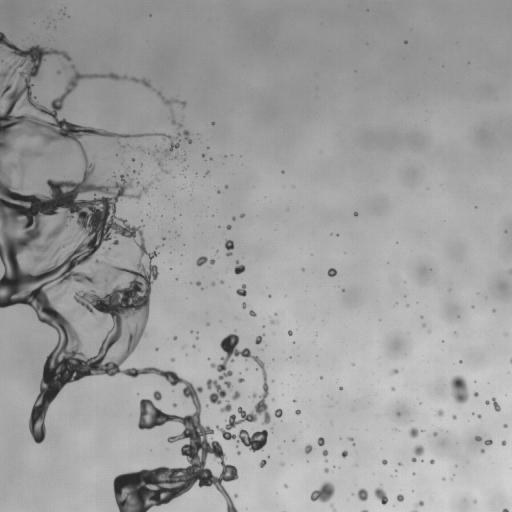droplet: (450, 375, 469, 404), (310, 481, 335, 502), (374, 487, 388, 504), (411, 445, 424, 461), (234, 260, 245, 274), (357, 488, 368, 501), (225, 240, 234, 255), (220, 401, 232, 412), (236, 284, 246, 296), (408, 427, 419, 437), (254, 334, 264, 344), (153, 390, 161, 401), (304, 445, 313, 454), (327, 268, 337, 276), (274, 408, 282, 417), (232, 391, 240, 399), (317, 437, 324, 446), (224, 381, 232, 388), (259, 459, 266, 467), (436, 409, 443, 416), (397, 494, 404, 501), (138, 146, 145, 152), (249, 310, 256, 316), (391, 369, 398, 375), (341, 450, 347, 457), (484, 440, 492, 445), (67, 147, 72, 154), (270, 319, 277, 324), (416, 501, 423, 506), (475, 436, 481, 441), (382, 459, 387, 465), (241, 303, 246, 308), (295, 409, 300, 414), (501, 440, 506, 445), (322, 450, 327, 455), (238, 378, 244, 382), (226, 225, 231, 229), (196, 281, 200, 286), (252, 393, 257, 397), (473, 392, 478, 396), (430, 459, 434, 464), (502, 508, 508, 511), (240, 213, 244, 217), (288, 331, 292, 335), (485, 400, 489, 404), (452, 415, 456, 419), (477, 414, 481, 418), (433, 432, 437, 436), (480, 448, 484, 452), (324, 468, 328, 472), (171, 358, 175, 361), (391, 387, 395, 390), (173, 403, 176, 407), (71, 65, 74, 68), (121, 145, 124, 148), (354, 212, 357, 215), (232, 217, 235, 220), (212, 282, 215, 285), (422, 324, 425, 327), (85, 327, 88, 330), (173, 336, 176, 339), (293, 399, 296, 402), (397, 412, 400, 415), (503, 424, 506, 427), (237, 451, 240, 454), (398, 462, 401, 465), (284, 484, 287, 487), (234, 494, 237, 497), (412, 509, 416, 511), (57, 71, 60, 73), (201, 154, 204, 156), (132, 158, 134, 161), (133, 170, 136, 172), (206, 171, 208, 174), (136, 182, 139, 184), (225, 185, 227, 188), (217, 190, 220, 192), (301, 268, 304, 270), (492, 309, 495, 311), (420, 316, 423, 318), (207, 323, 209, 326), (192, 345, 195, 347), (155, 348, 158, 350), (339, 387, 342, 389), (404, 41, 406, 43), (212, 122, 214, 124), (182, 158, 184, 160), (126, 167, 128, 169), (268, 295, 270, 297), (196, 336, 198, 338), (474, 500, 476, 502)
ligament: (0, 32, 238, 511), (207, 333, 270, 451), (17, 148, 65, 174), (155, 90, 186, 107), (0, 65, 12, 98), (196, 256, 215, 266), (492, 398, 500, 411), (171, 118, 181, 127), (103, 248, 110, 255), (348, 437, 354, 444), (330, 505, 336, 511), (153, 175, 158, 180), (175, 152, 177, 158), (509, 268, 511, 274), (361, 510, 367, 511), (510, 358, 511, 363)
